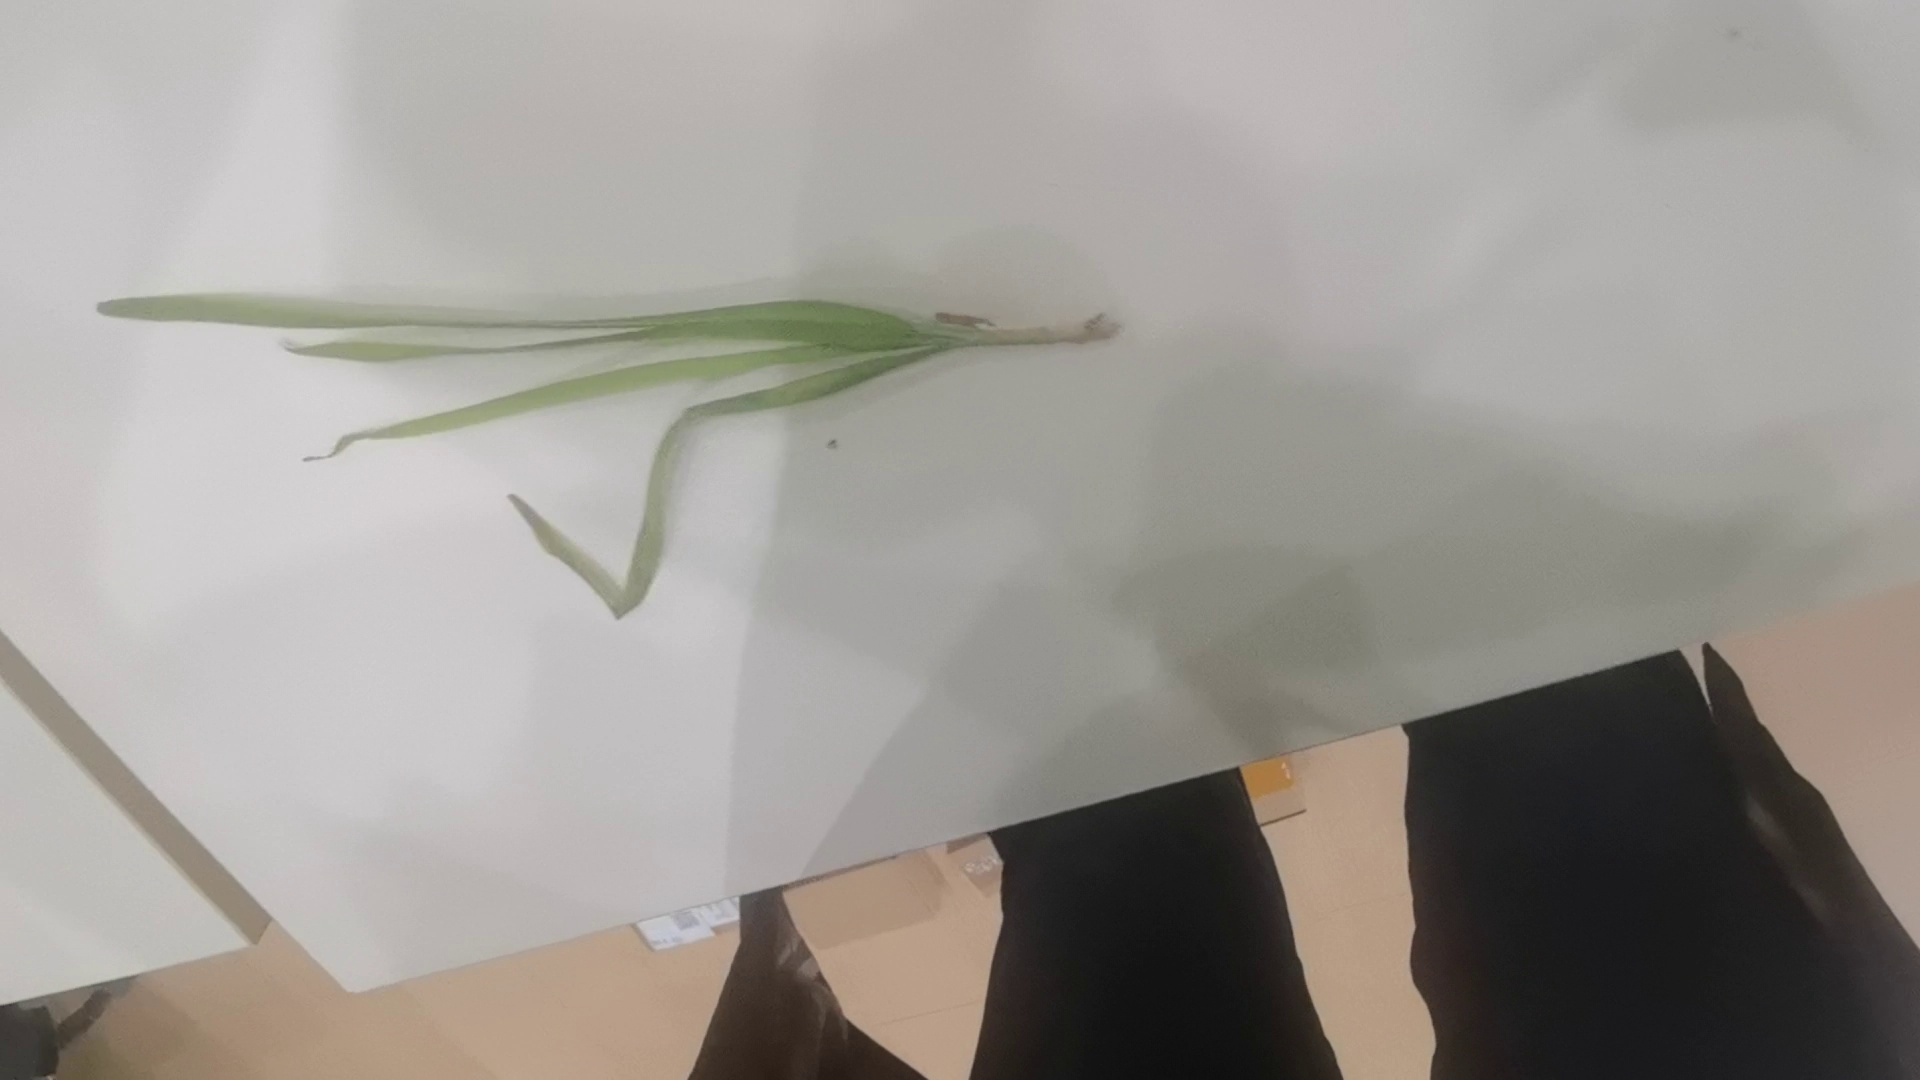chives: (94, 277, 1123, 613)
